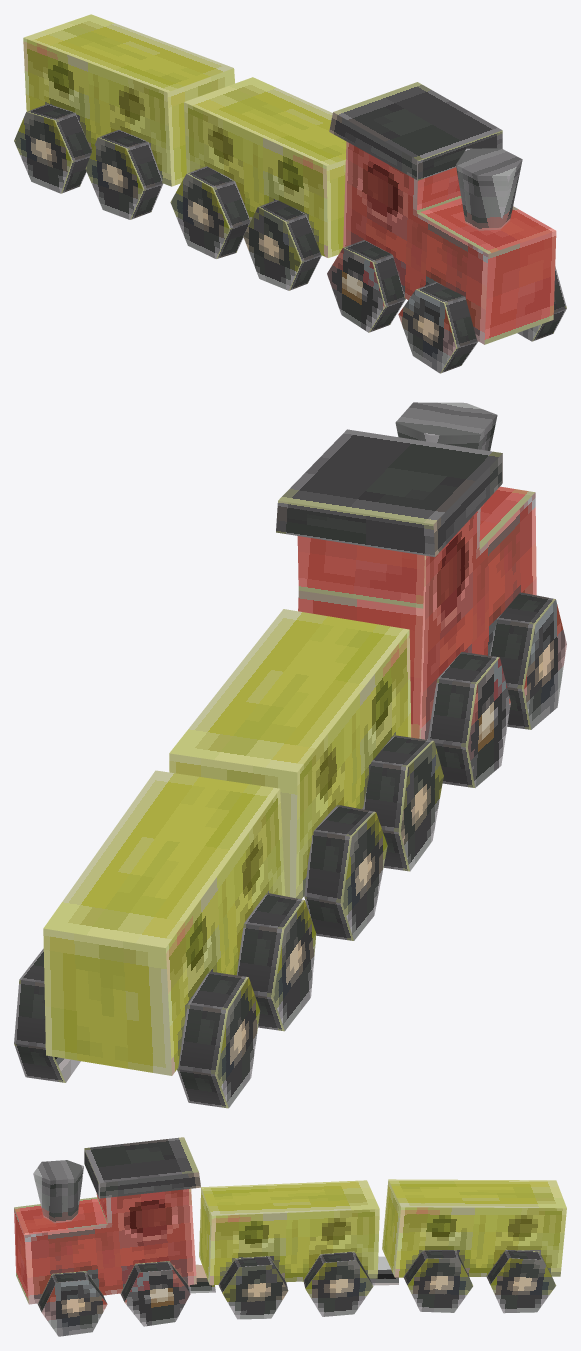
3 views of the same model, one above another, from view 1: azimuth 30°, elevation 25°; view 2: azimuth 150°, elevation 25°; view 3: azimuth 270°, elevation 25° (orthographic). The views are drawn at different scales.
Visible parts, largest first — view 1: sl25; view 2: sl25; view 3: sl25.
Part boxes in pixels (x1,y1,x2,y2): sl25: [14, 14, 566, 373]; sl25: [14, 402, 566, 1108]; sl25: [14, 1137, 566, 1336].
Bounding box in the file's own units: 94 × 83 × 260.
Materials: 1 (1 with a texture image).
